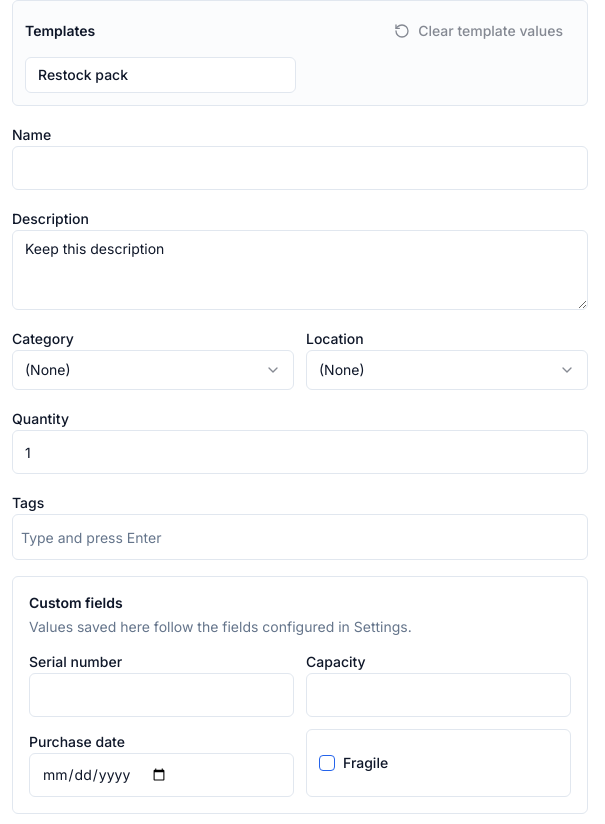
ItemForm templates › shows applied template status and clears only unchanged template values
Expected: the button "Clear template values" is disabled, [382,13,575,49]
Click the button "Restock pack".
click(83, 74)  # box [25,57,296,93]
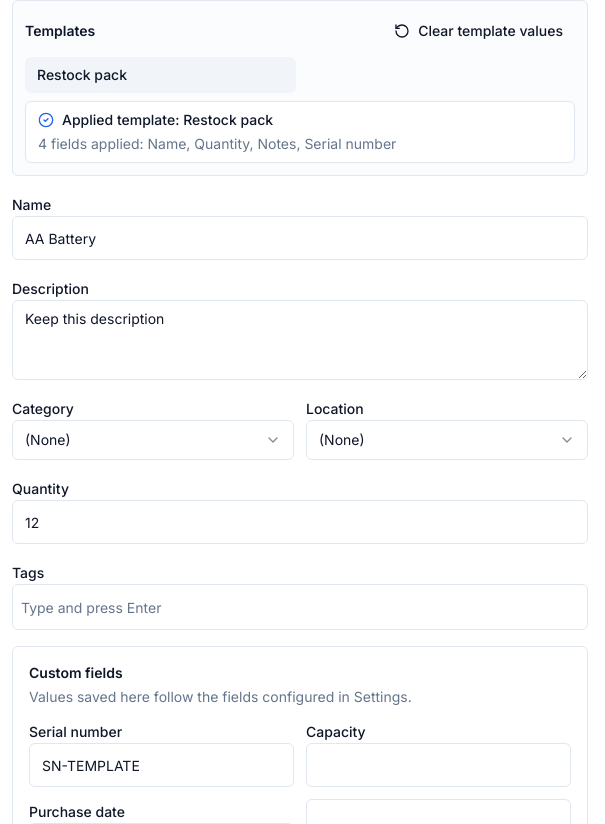
Now the text "Applied template: Restock pack" is shown, box [38,111,273,128]
Now the text "4 fields applied: Name, Quantity, Notes, Serial number" is shown, box [38,135,396,152]
Replace the text in the field labelled "Name" with "Manual override" at (300, 238), box [12,216,588,260]
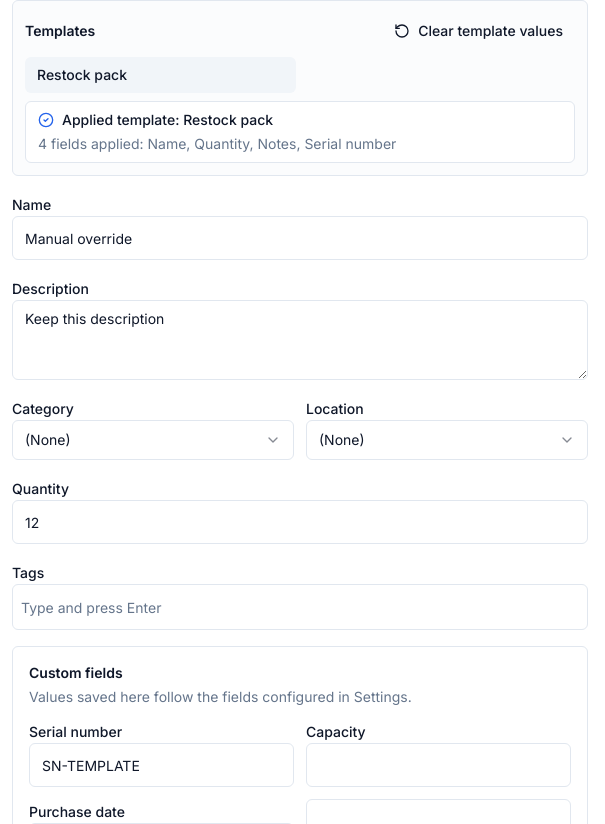
Click the button "Clear template values".
click(479, 31)  # box [382,13,575,49]
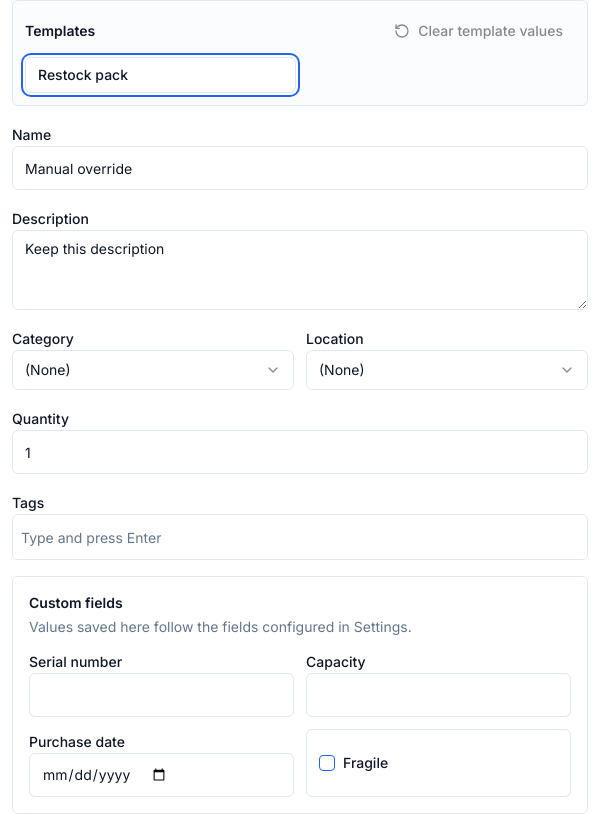
Expected: the text box labelled "Description" holds "Keep this description", [12,230,588,310]
Now the number field labelled "Quantity" holds "1", box [12,430,588,474]
Now the field labelled "Serial number" is empty, box [29,673,294,717]
